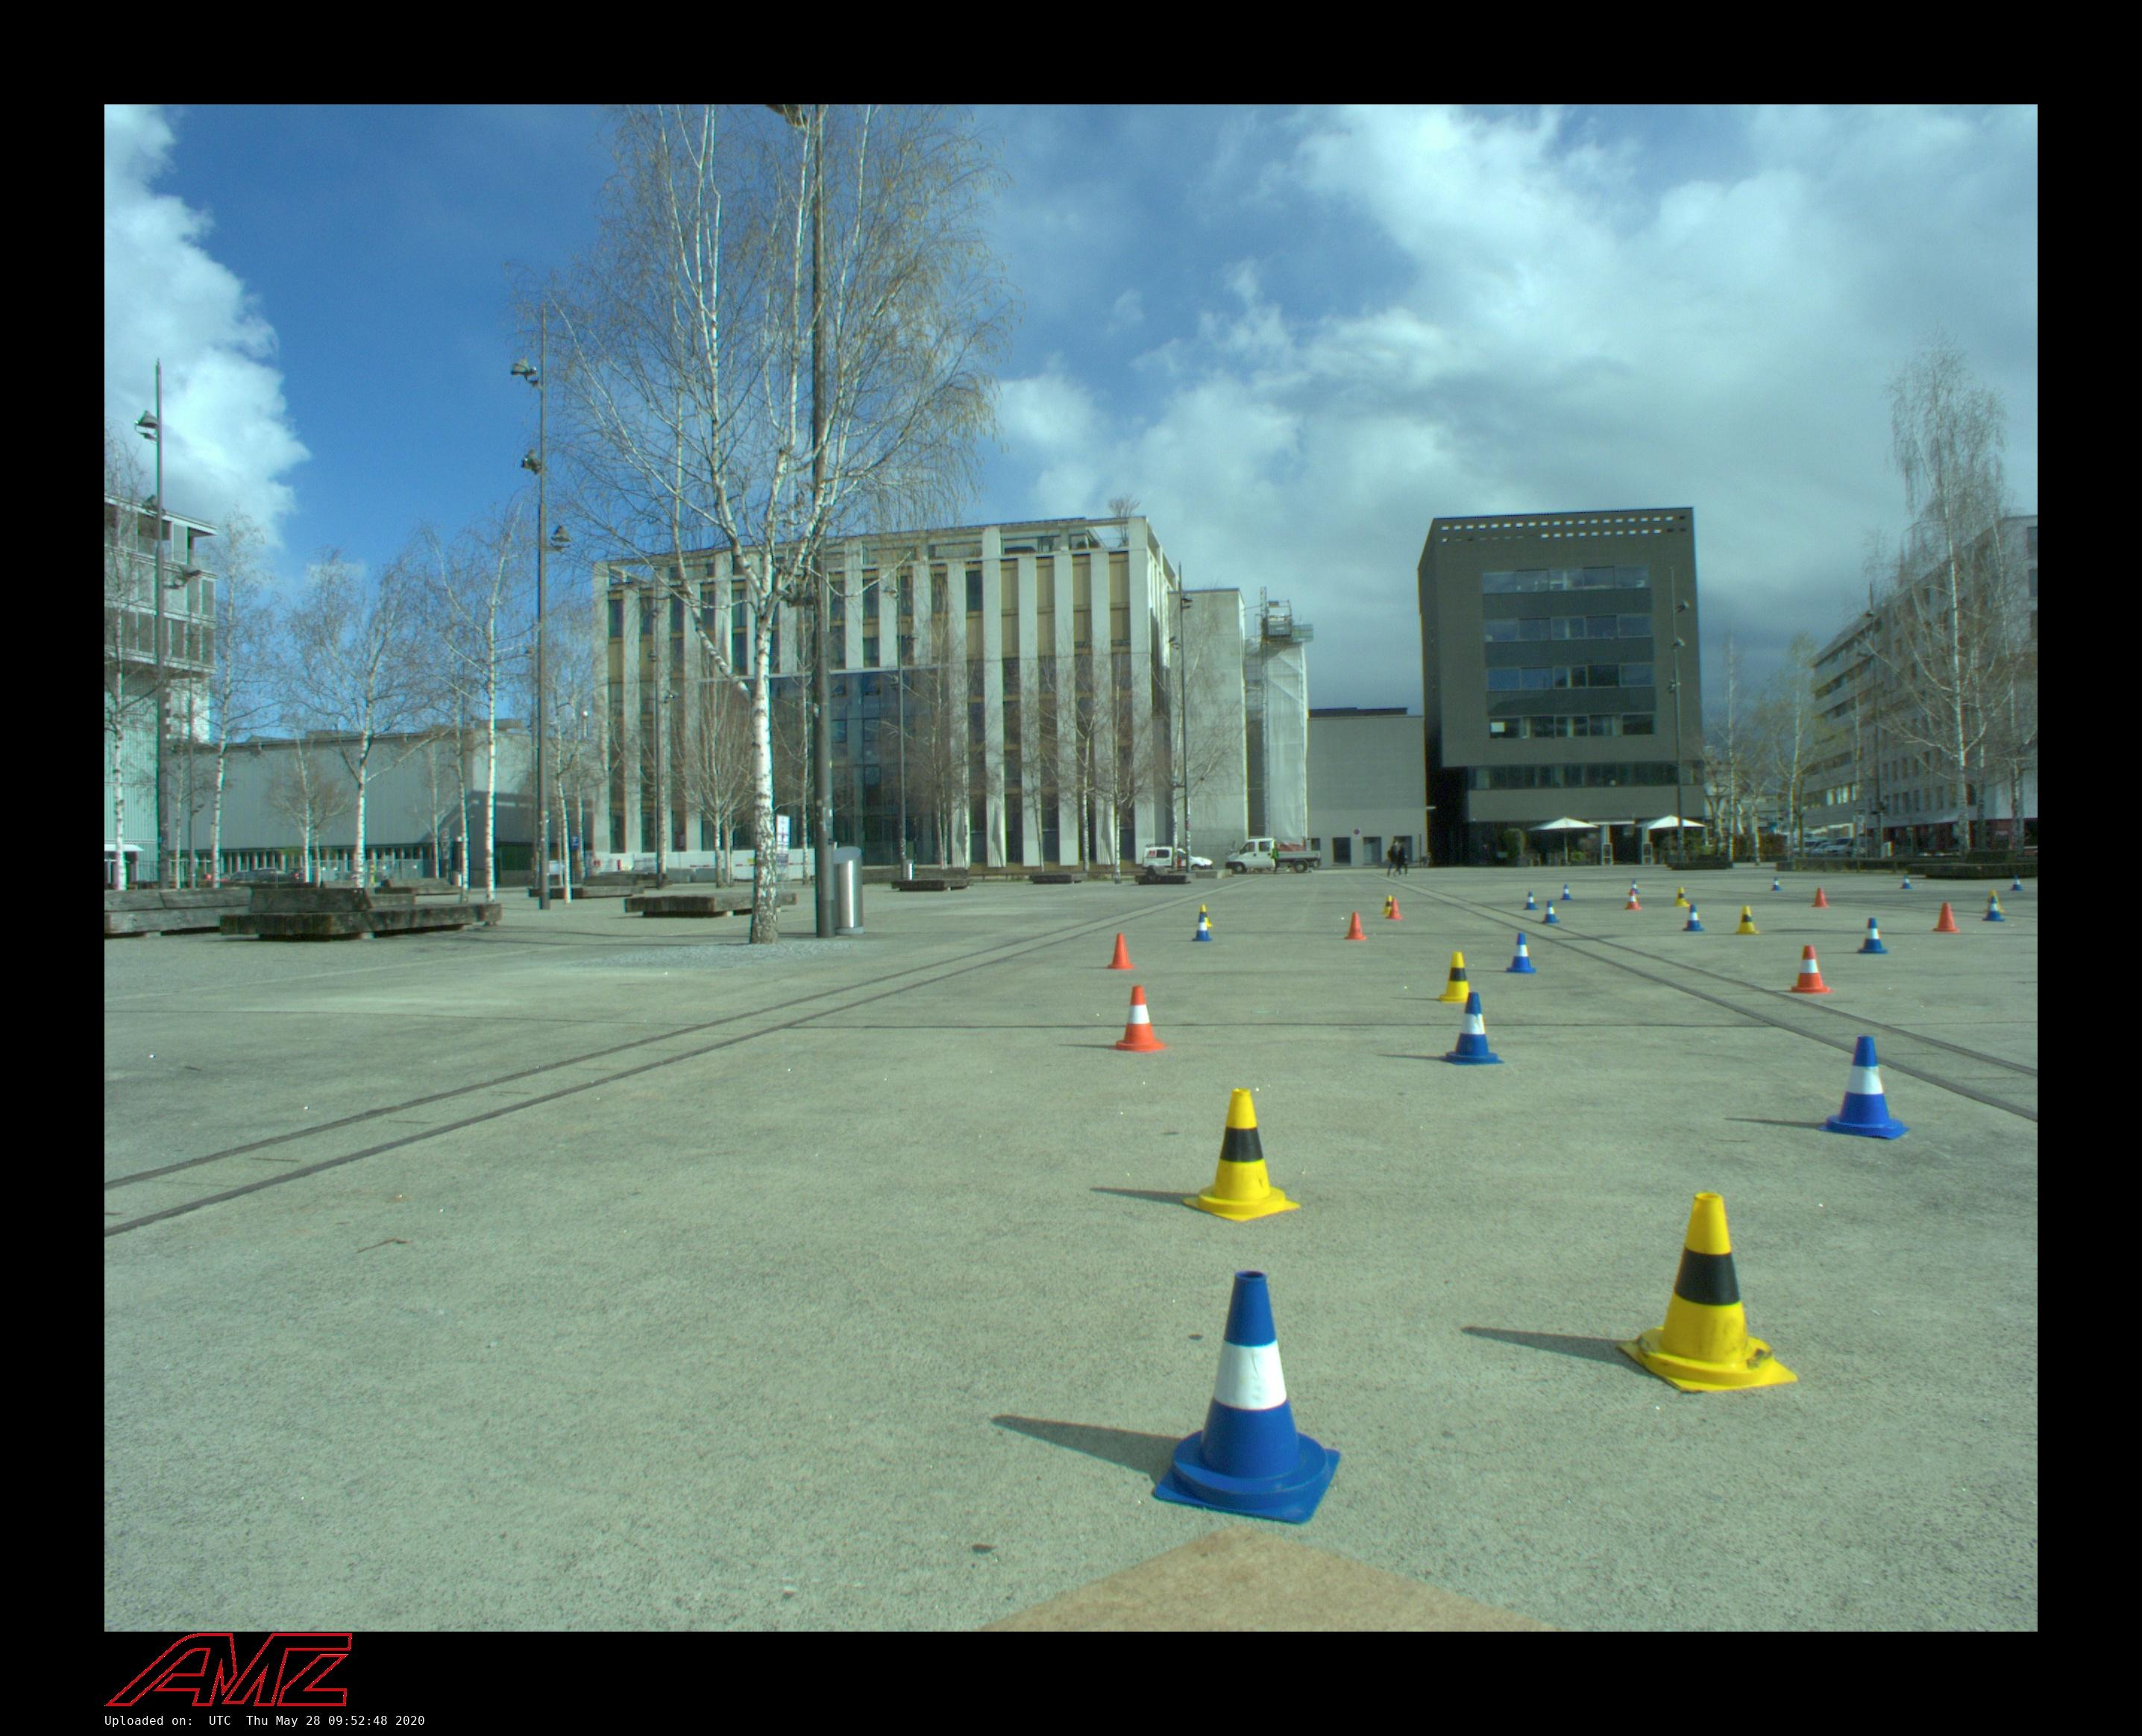blue_cone: (1149, 1272, 1342, 1523), (1817, 1036, 1910, 1139), (1438, 992, 1504, 1065), (1503, 933, 1537, 974), (1856, 917, 1888, 955), (1982, 896, 2006, 922), (1190, 914, 1213, 942), (1683, 905, 1705, 931), (1542, 901, 1559, 923), (1524, 892, 1539, 910), (2010, 875, 2023, 891), (1560, 884, 1573, 900), (1629, 880, 1640, 894), (1900, 875, 1912, 889), (1771, 877, 1782, 890)
orange_cone: (1108, 986, 1169, 1051), (1787, 944, 1832, 994), (1105, 933, 1135, 970), (1932, 902, 1961, 933), (1343, 912, 1366, 940), (1812, 887, 1829, 908), (1386, 899, 1402, 919), (1624, 890, 1641, 911)
yellow_cone: (1616, 1192, 1799, 1393), (1182, 1087, 1301, 1221), (1436, 951, 1480, 1003), (1735, 905, 1759, 934), (1983, 890, 2004, 914), (1195, 905, 1213, 927), (1673, 887, 1690, 907), (1381, 895, 1398, 915)
